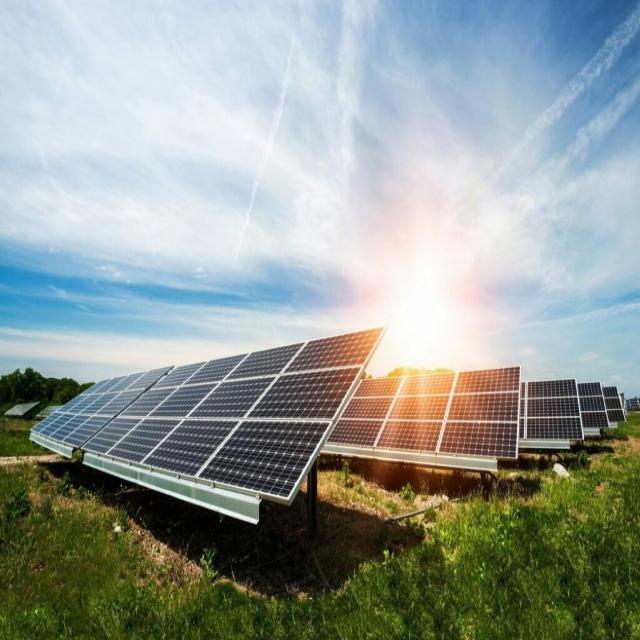clean-solar-panel: (79, 329, 384, 501), (324, 366, 521, 470)
